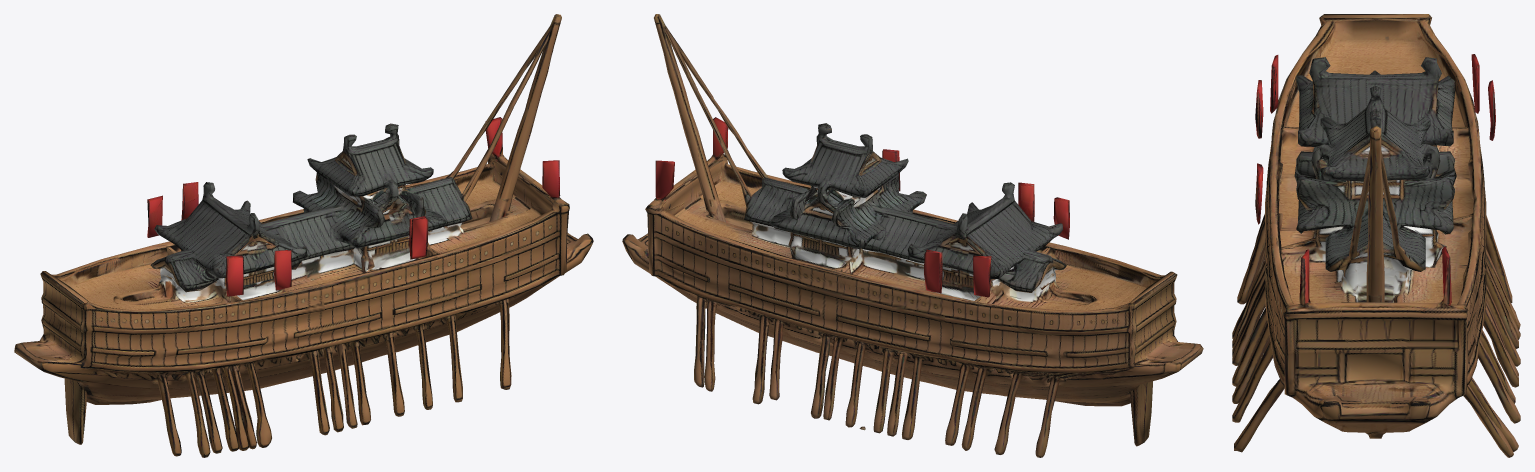
File: AnTaegSeon01.fbx
The picture shows the model from 3 angles, left to right: view 1: azimuth 30°, elevation 25°; view 2: azimuth 150°, elevation 25°; view 3: azimuth 270°, elevation 25°; orthographic projection. The views are drawn at different scales.
Parts seen in each view (by area): view 1: Mesh_0; view 2: Mesh_0; view 3: Mesh_0.
Part boxes in pixels (x1,y1,x2,y2): Mesh_0: (14,14,593,457); Mesh_0: (622,14,1203,457); Mesh_0: (1232,14,1520,457).
Size of the model in its own units: 191 by 103 by 68.88.
Materials: 1 (1 with a texture image).
